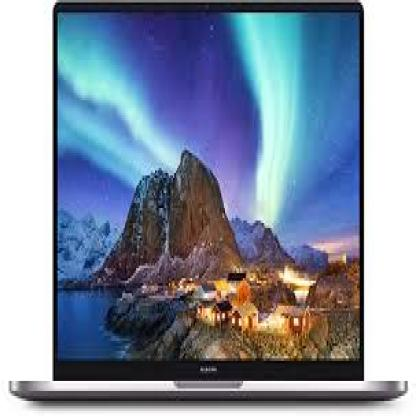NOTEBOOK: (20, 5, 392, 416)
